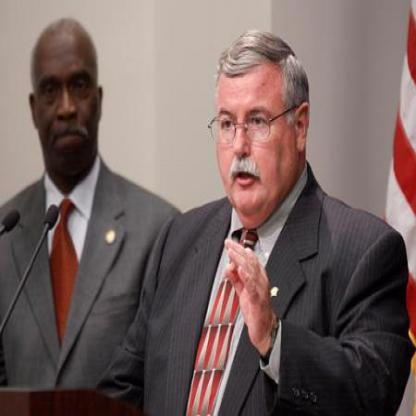face: (213, 41, 300, 222), (35, 22, 100, 170)
